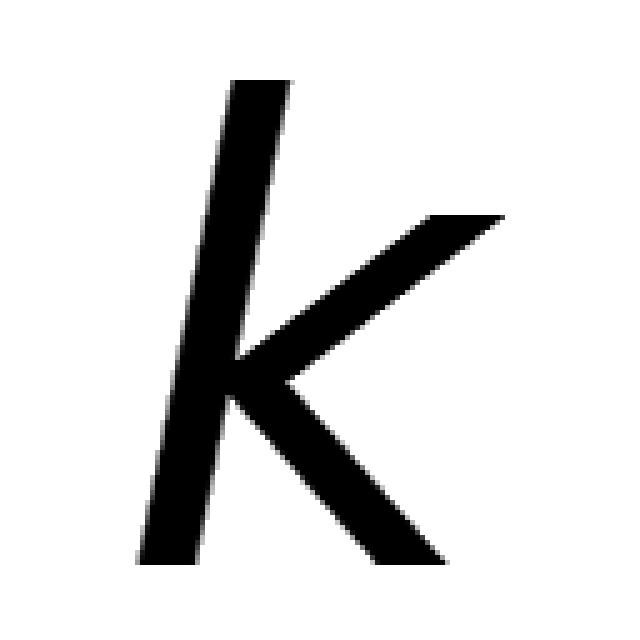K: (125, 70, 505, 575)
